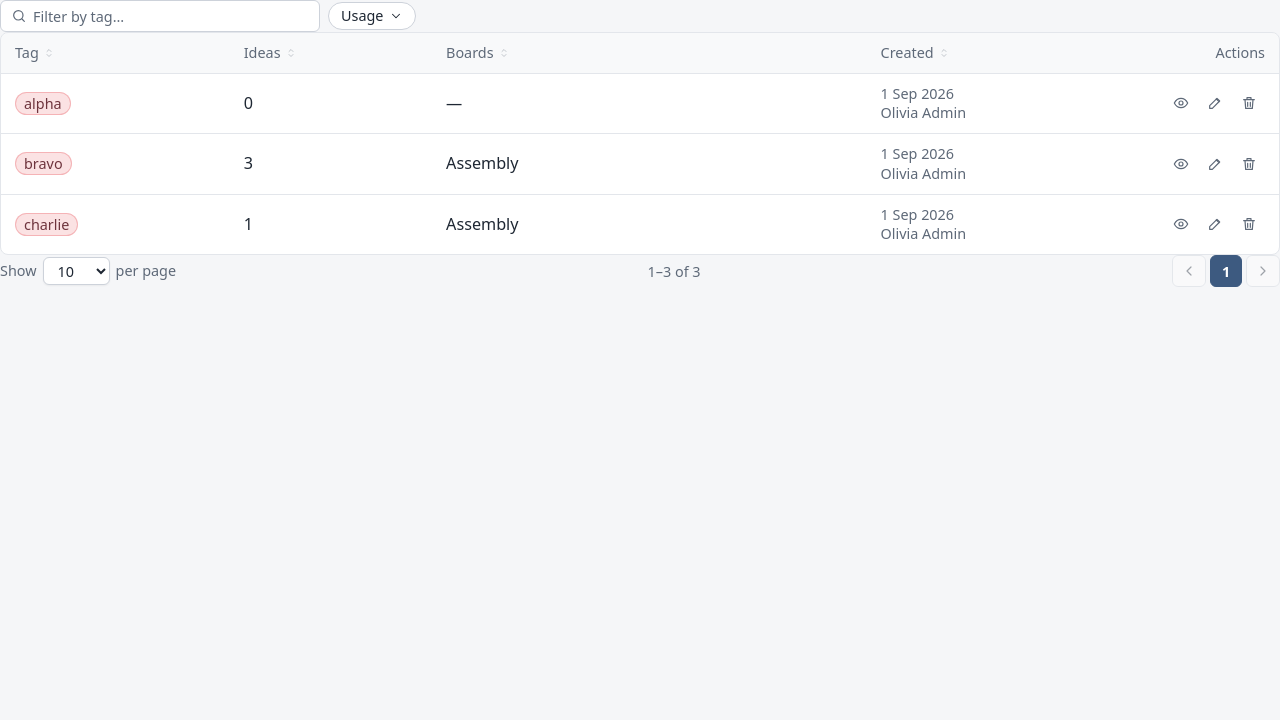
Test: Delete tag confirmation › counts ideas in the plural
Step 1. Click the button named "Delete bravo" → click(1249, 164), box 1233,148 -> 1265,180
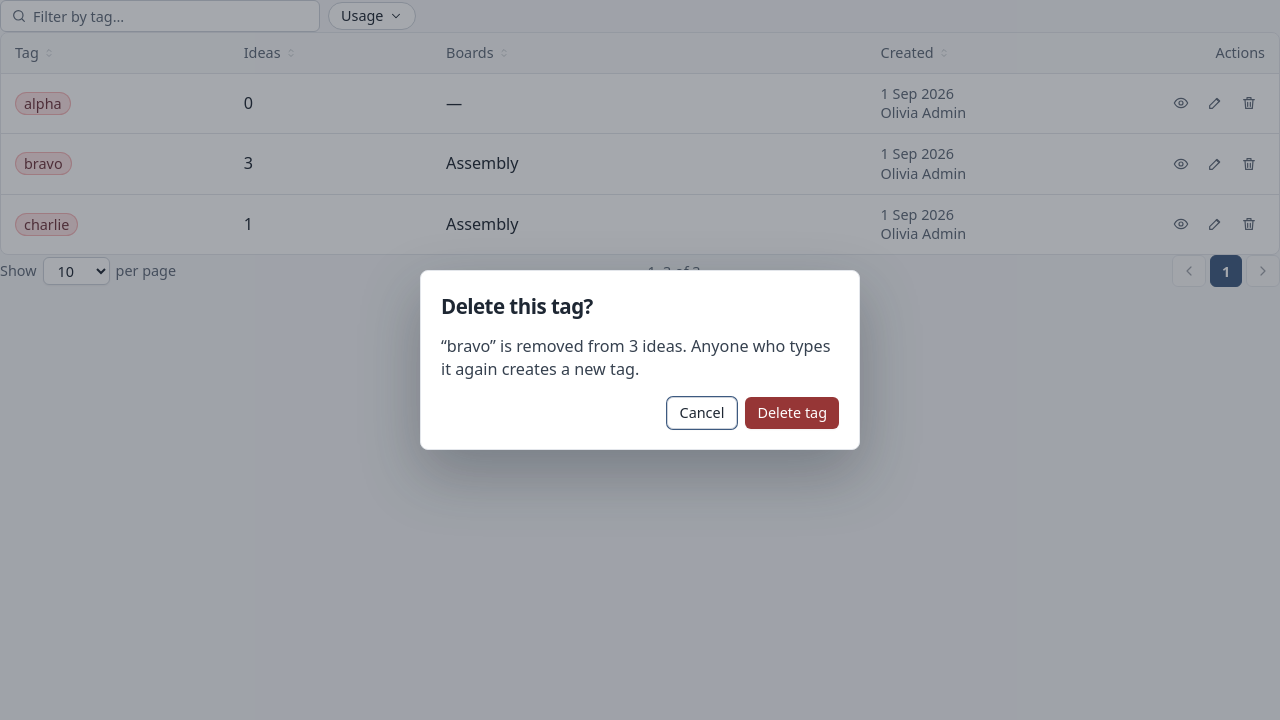
Now the dialog shows "“bravo” is removed from 3 ideas. Anyone who types it again creates a new tag.", box 441,335 -> 830,380
